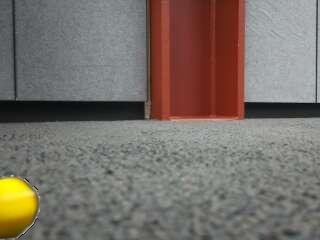lemon: (1, 177, 39, 238)
